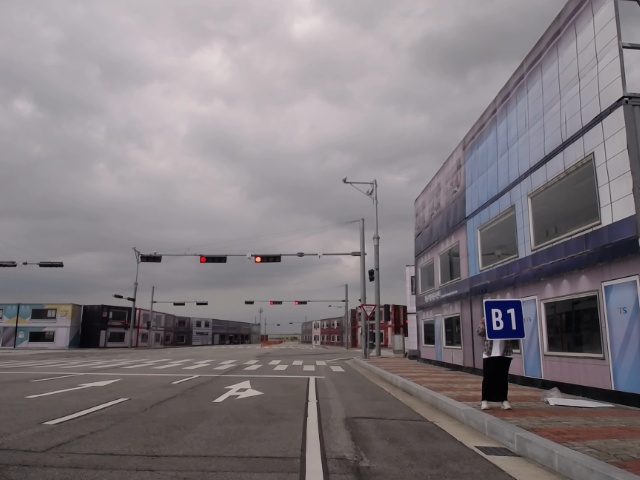delivery_b1: (484, 299, 526, 340)
red_4: (200, 255, 227, 263), (255, 254, 281, 262), (270, 301, 282, 305), (295, 301, 307, 305)
